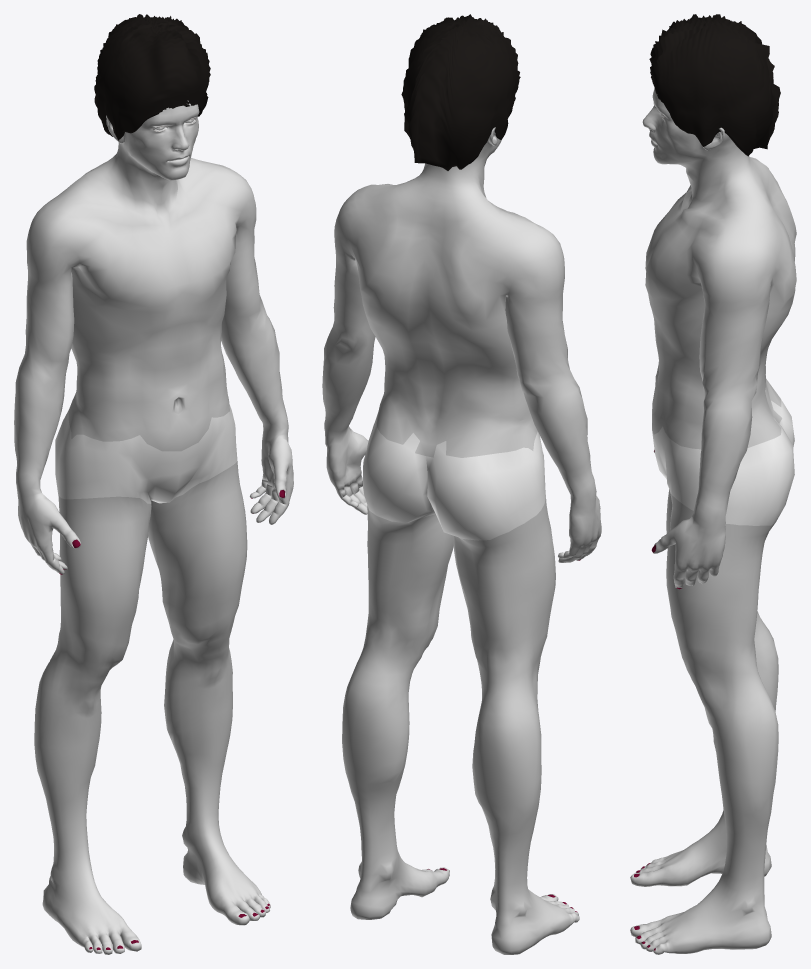
File: avatar_male_1.glb
3 renders of one model, left to right at view 1: azimuth 30°, elevation 25°; view 2: azimuth 150°, elevation 25°; view 3: azimuth 270°, elevation 25°, orthographic.
Parts seen in each view (by area): view 1: m_ca01; view 2: m_ca01; view 3: m_ca01.
Part boxes in pixels (x1=…): m_ca01: x1=14, y1=14, x2=293, y2=954; m_ca01: x1=322, y1=14, x2=601, y2=954; m_ca01: x1=630, y1=14, x2=796, y2=954.
Size of the model in its own units: 0.5816 by 1.86 by 0.3143.
Materials: 11 (1 with a texture image).
